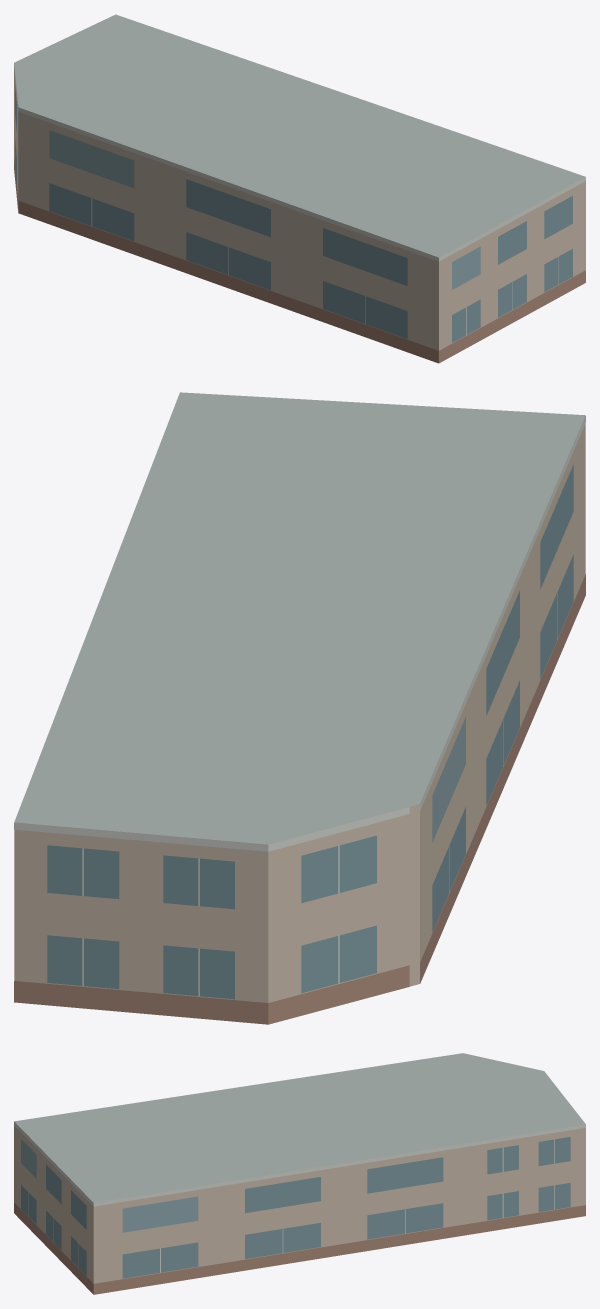
Rendered from survey-upis-32765906.glb.
The picture shows the model from 3 angles, top to bottom: view 1: azimuth 30°, elevation 25°; view 2: azimuth 150°, elevation 25°; view 3: azimuth 270°, elevation 25°; orthographic projection. The views are drawn at different scales.
Parts seen in each view (by area): view 1: survey-upis-32765906.tmp; view 2: survey-upis-32765906.tmp; view 3: survey-upis-32765906.tmp.
Boxes of the visible parts, x1,y1,x2,y2 form: survey-upis-32765906.tmp: (14, 14, 585, 363); survey-upis-32765906.tmp: (14, 392, 585, 1024); survey-upis-32765906.tmp: (14, 1053, 585, 1294).
Size of the model in its own units: 21.36 by 6.1 by 34.42.
